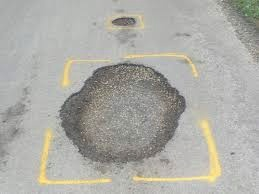pothole: (60, 58, 190, 167), (112, 13, 140, 27)
